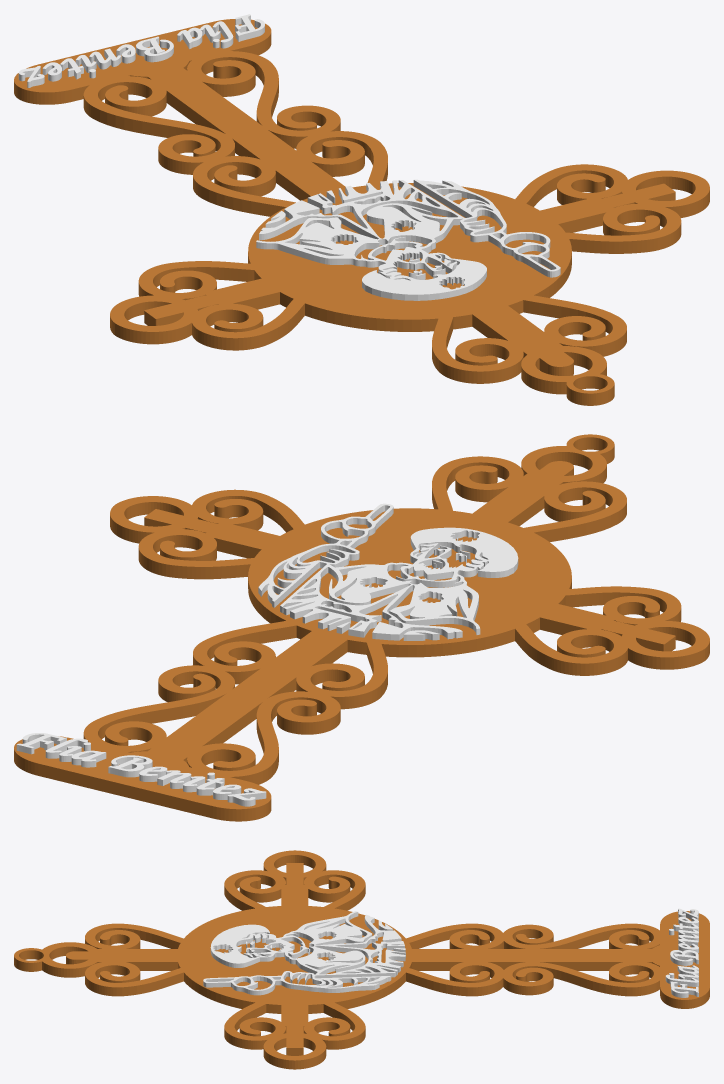
Rendered from souvenir.glb.
The picture shows the model from 3 angles, top to bottom: view 1: azimuth 30°, elevation 25°; view 2: azimuth 150°, elevation 25°; view 3: azimuth 270°, elevation 25°; orthographic projection. The views are drawn at different scales.
Parts seen in each view (by area): view 1: PS-PARTE1, PS-PARTE2; view 2: PS-PARTE1, PS-PARTE2; view 3: PS-PARTE1, PS-PARTE2.
Boxes of the visible parts, box(x1,y1,x2,y2) form: PS-PARTE1: box(14, 19, 709, 405); PS-PARTE2: box(18, 14, 560, 300); PS-PARTE1: box(14, 434, 709, 821); PS-PARTE2: box(16, 503, 518, 806); PS-PARTE1: box(14, 850, 709, 1069); PS-PARTE2: box(203, 908, 698, 997).
Size of the model in its own units: 0.05 by 0.0015 by 0.07.
